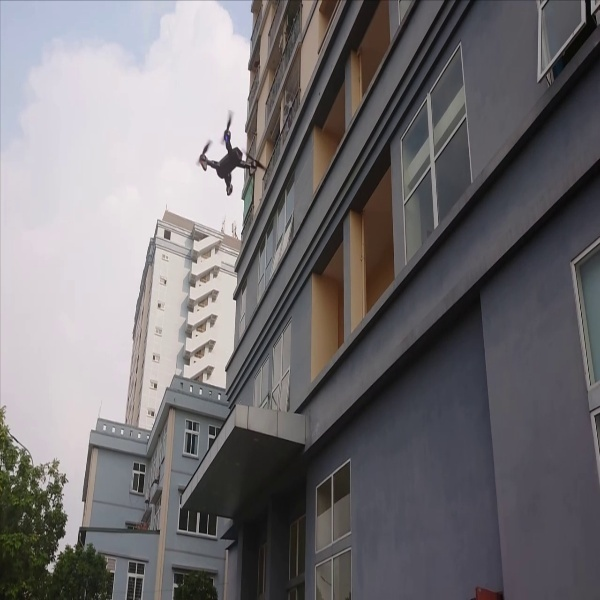drone: (192, 110, 272, 198)
